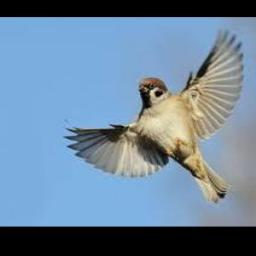Sparrow: (63, 28, 243, 204)
